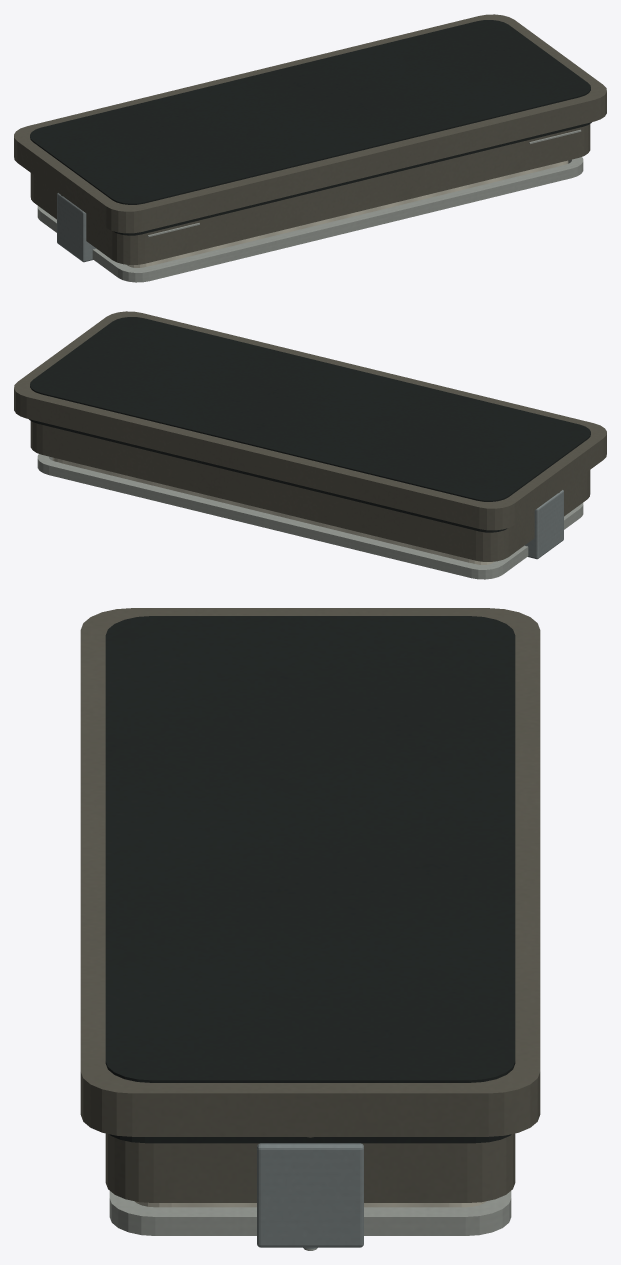
The model's file is SM_Exterior_Canopy.fbx.
3 renders of one model, top to bottom at view 1: azimuth 30°, elevation 25°; view 2: azimuth 150°, elevation 25°; view 3: azimuth 270°, elevation 25°, orthographic. The views are drawn at different scales.
Parts seen in each view (by area): view 1: SM_Exterior_Canopy; view 2: SM_Exterior_Canopy; view 3: SM_Exterior_Canopy.
Part boxes in pixels (<box>): SM_Exterior_Canopy: <box>14,14,606,282</box>; SM_Exterior_Canopy: <box>14,311,606,579</box>; SM_Exterior_Canopy: <box>80,608,540,1250</box>.
Bounding box in the file's own units: 0.6 × 0.24 × 0.0992.
